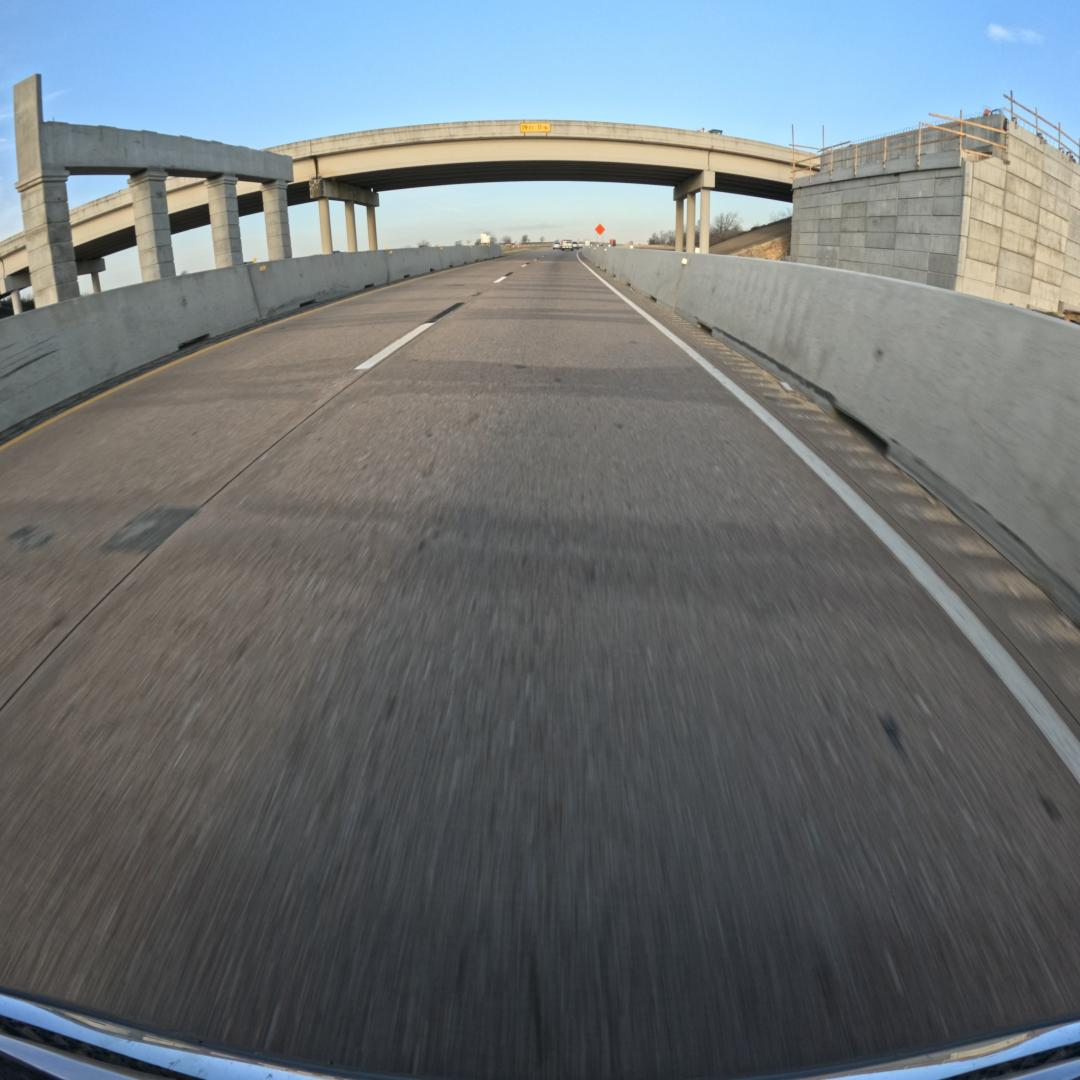lane0: (0, 254, 1080, 1077)
lane1: (0, 259, 523, 709)
